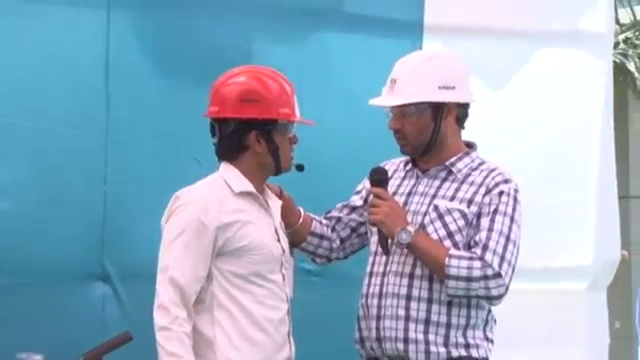helmet: (203, 62, 314, 127), (365, 47, 478, 109)
helmet_on: (201, 60, 317, 190), (362, 47, 480, 167)
person: (287, 45, 522, 360), (151, 61, 296, 360)
